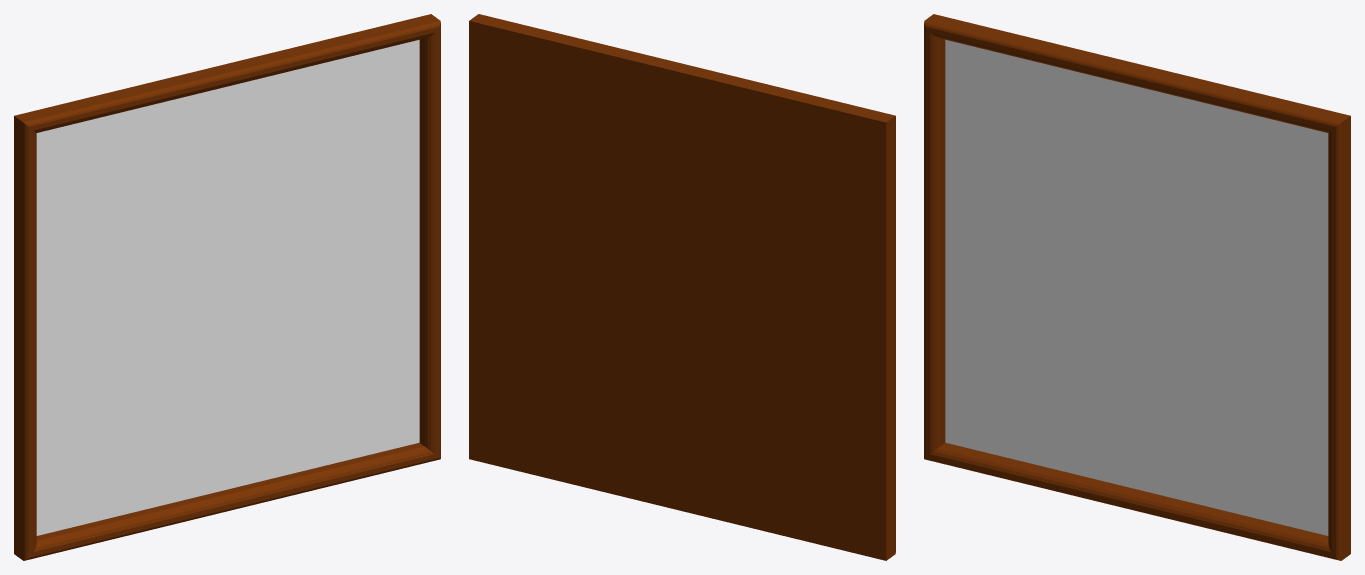
The model's file is tableau-liege.glb.
3 renders of one model, left to right at view 1: azimuth 30°, elevation 25°; view 2: azimuth 150°, elevation 25°; view 3: azimuth 330°, elevation 25°, orthographic.
Parts seen in each view (by area): view 1: Cube; view 2: Cube; view 3: Cube.
Boxes of the visible parts, x1,y1,x2,y2 form: Cube: (14,14,440,560); Cube: (469,14,895,560); Cube: (924,14,1350,560).
Bounding box in the file's own units: 0.5497 × 0.552 × 0.026.
